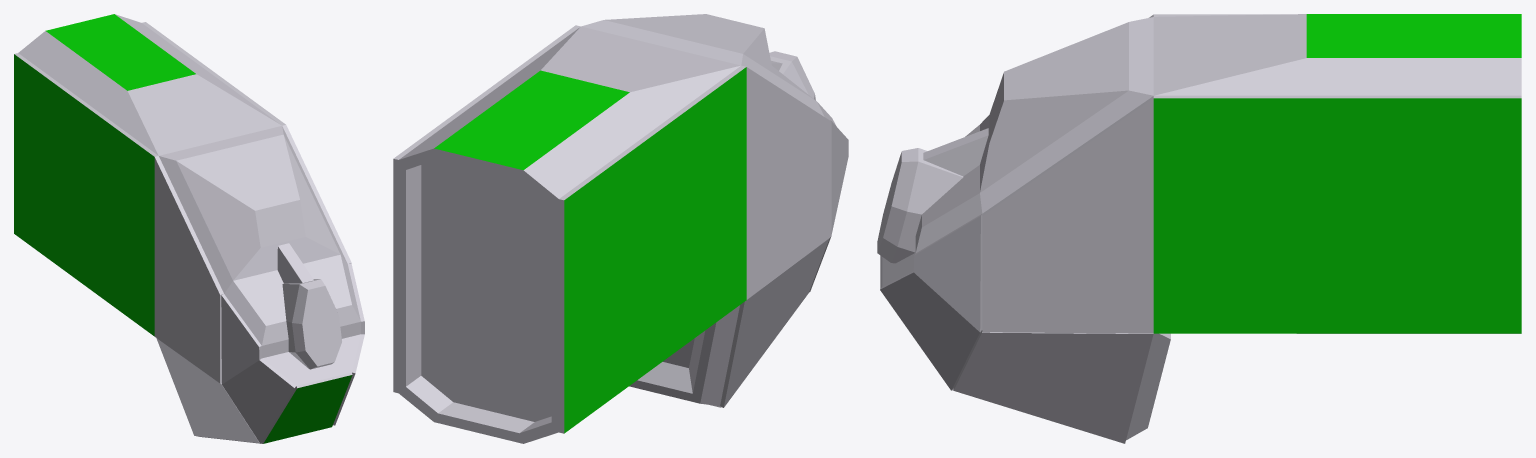
Rendered from eng.body.chin.fbx.
3 renders of one model, left to right at view 1: azimuth 30°, elevation 25°; view 2: azimuth 150°, elevation 25°; view 3: azimuth 270°, elevation 25°, orthographic. The views are drawn at different scales.
Parts seen in each view (by area): view 1: eng.body.chin; view 2: eng.body.chin; view 3: eng.body.chin.
Part boxes in pixels (x1,y1,x2,y2): eng.body.chin: (14, 14, 364, 443); eng.body.chin: (393, 14, 848, 443); eng.body.chin: (877, 14, 1521, 443).
Size of the model in its own units: 0.9515 by 2.03 by 3.08.
